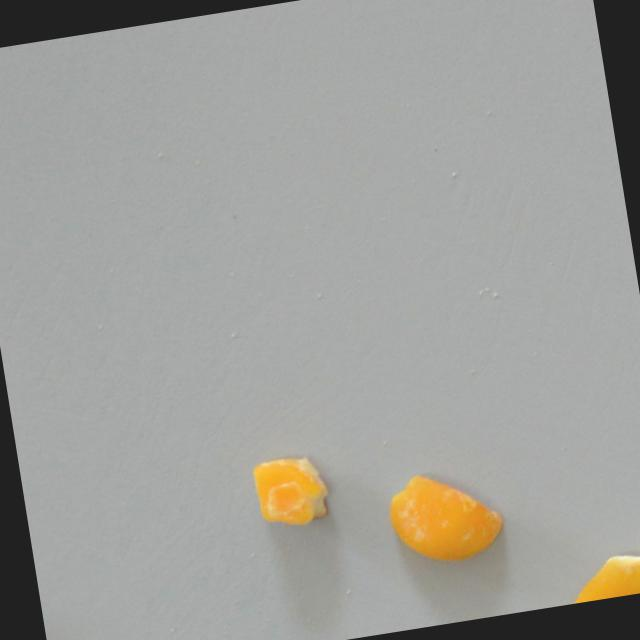dañado: (378, 461, 512, 574), (241, 446, 339, 537), (556, 546, 640, 605)
